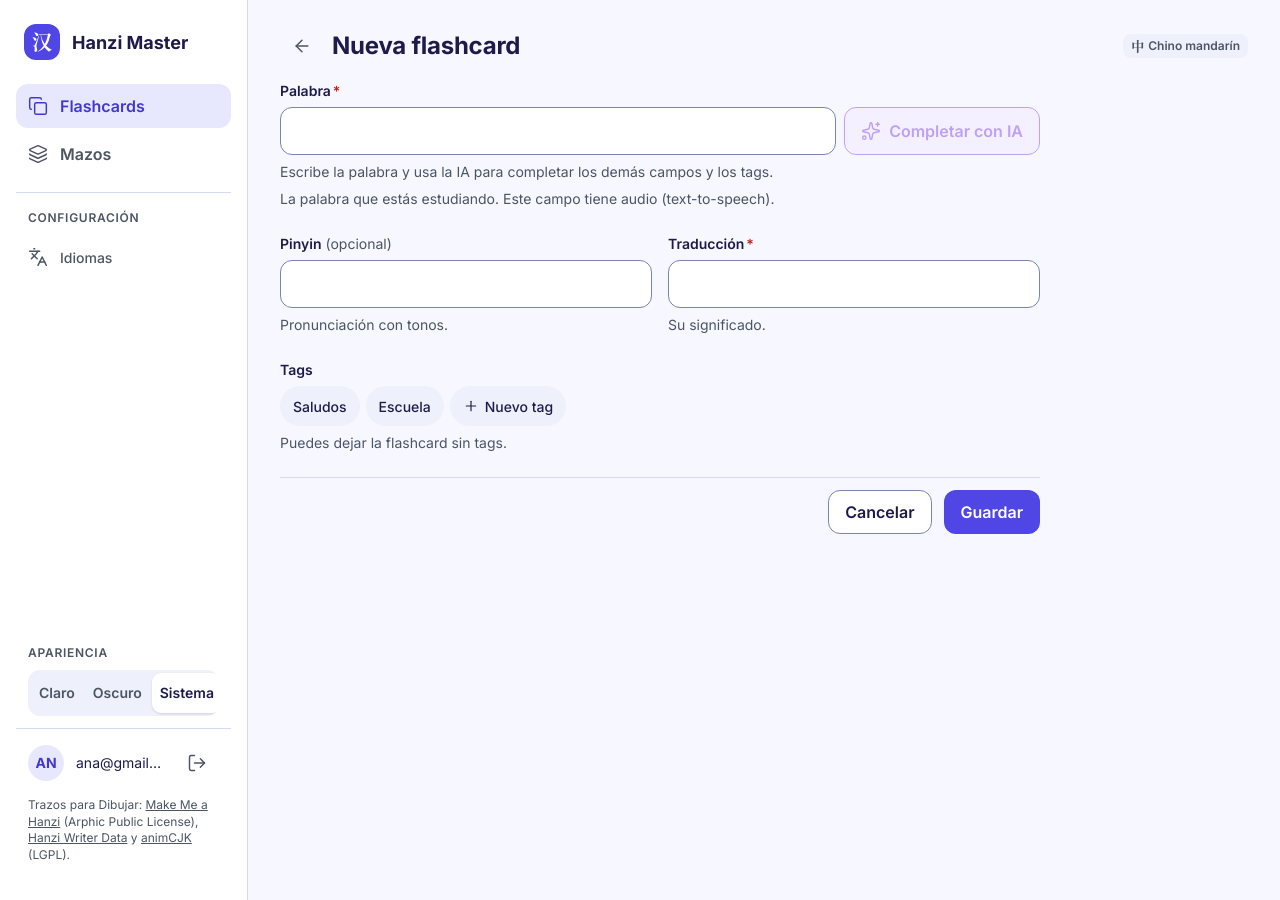
Test: F03 · Completar con IA › F03-6 rellena los campos vacíos y asigna solo tags existentes (máx. 2)
Type "朋友" into the field labelled "Palabra*" at [558, 131], box x1=280 y1=107 x2=836 y2=155
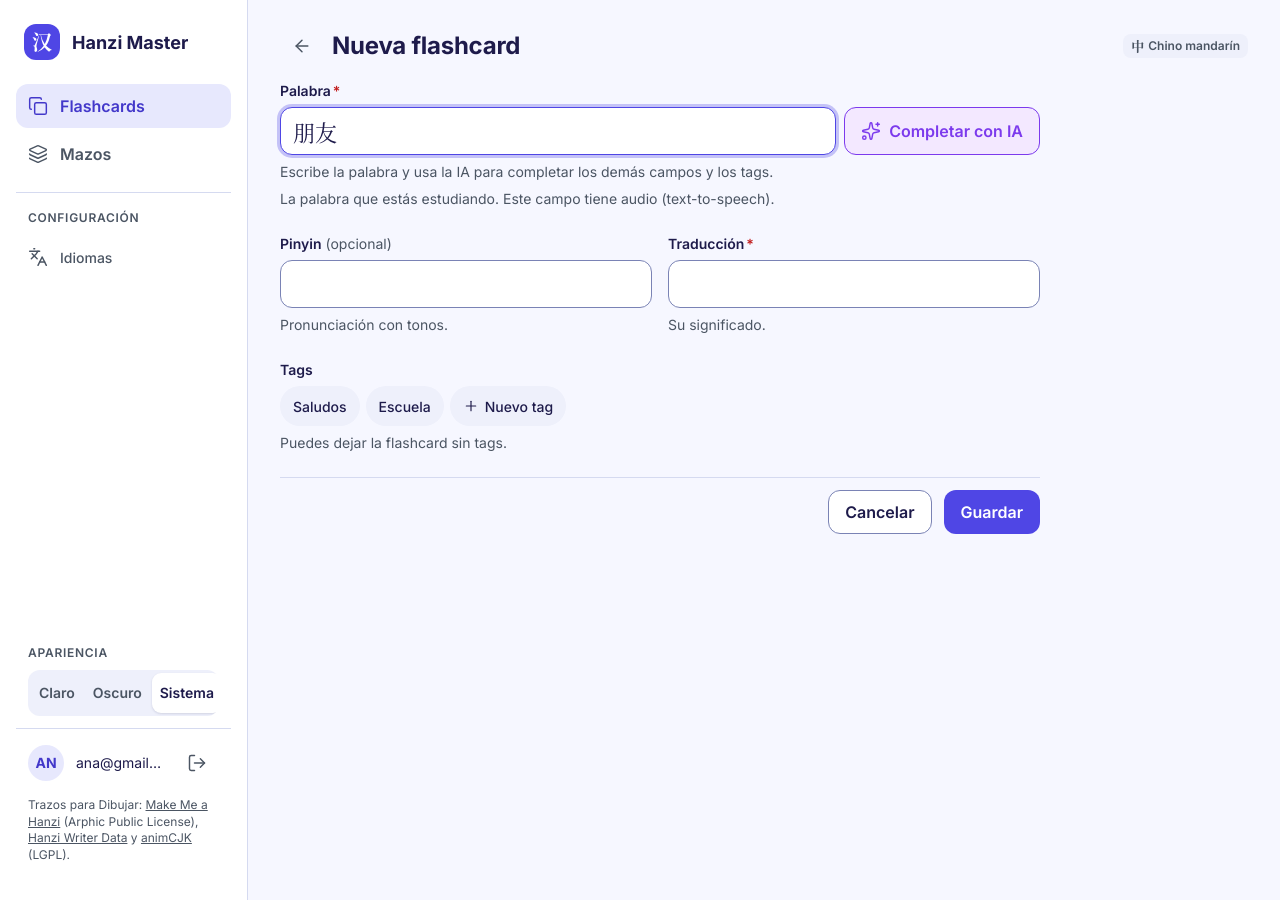
Type "compañero" into the field labelled "Traducción*" at [854, 284], box x1=668 y1=260 x2=1040 y2=308
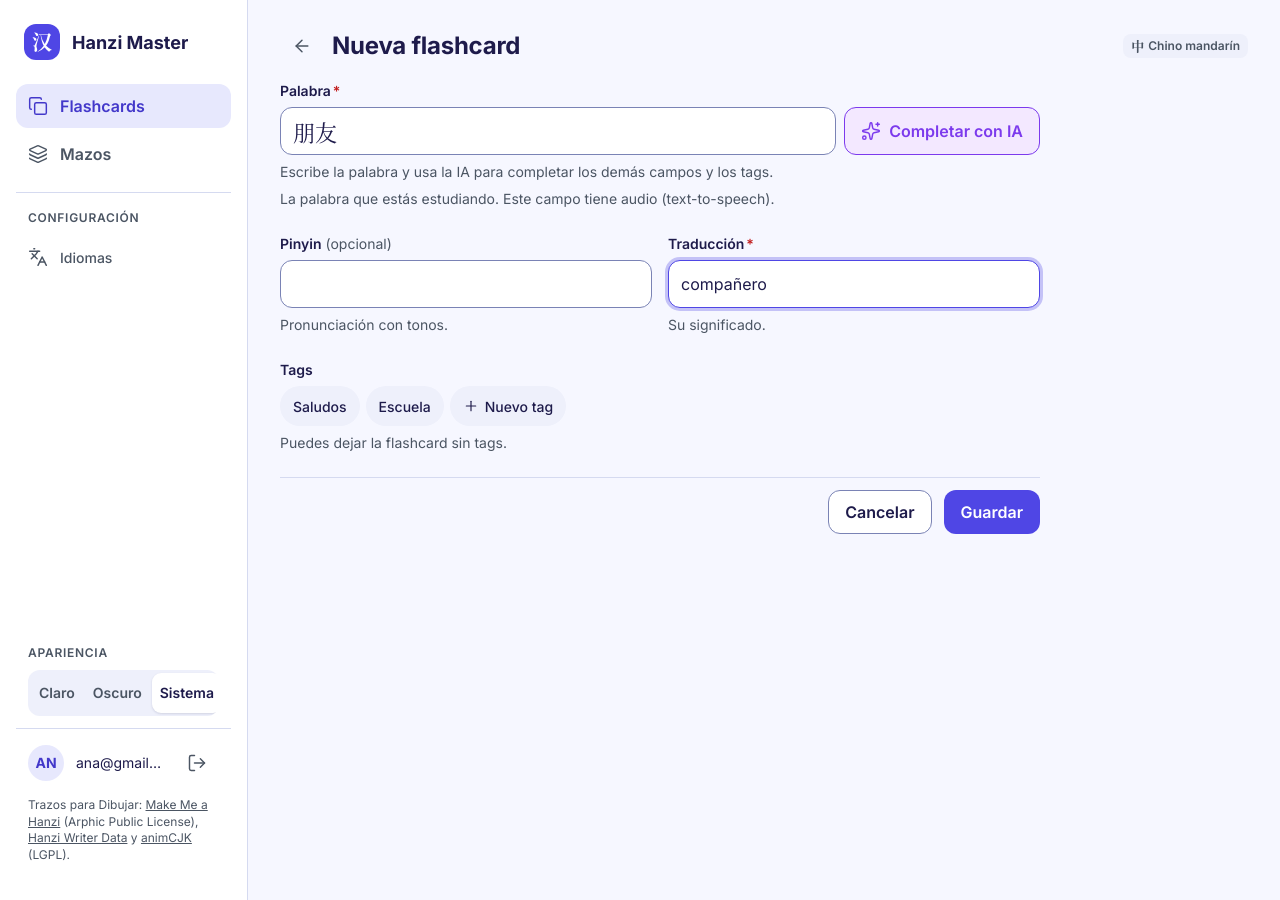
Click the button "Completar con IA" at [942, 131], box x1=844 y1=107 x2=1040 y2=155
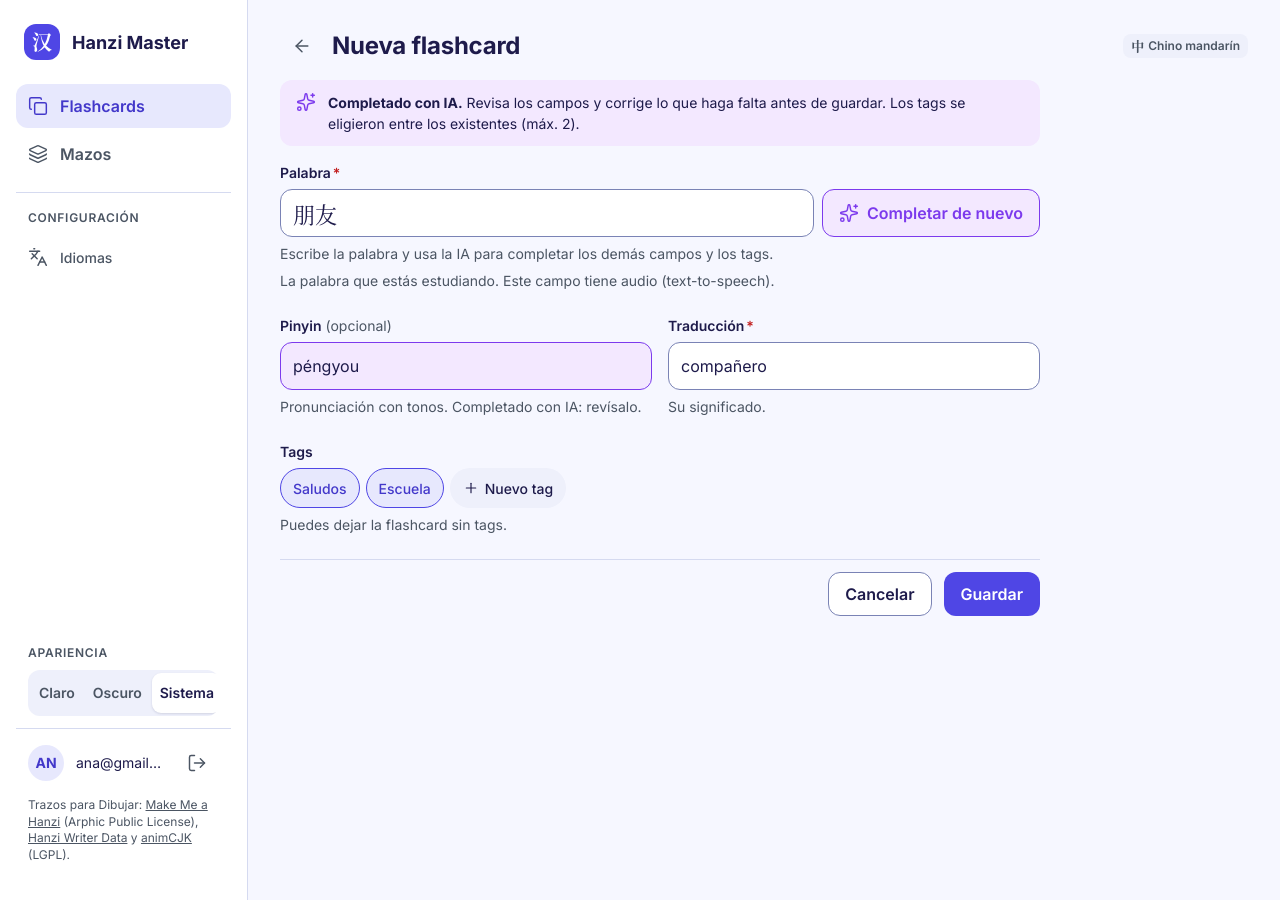
Now the field labelled "Pinyin(opcional)" holds "péngyou", box x1=280 y1=342 x2=652 y2=390
